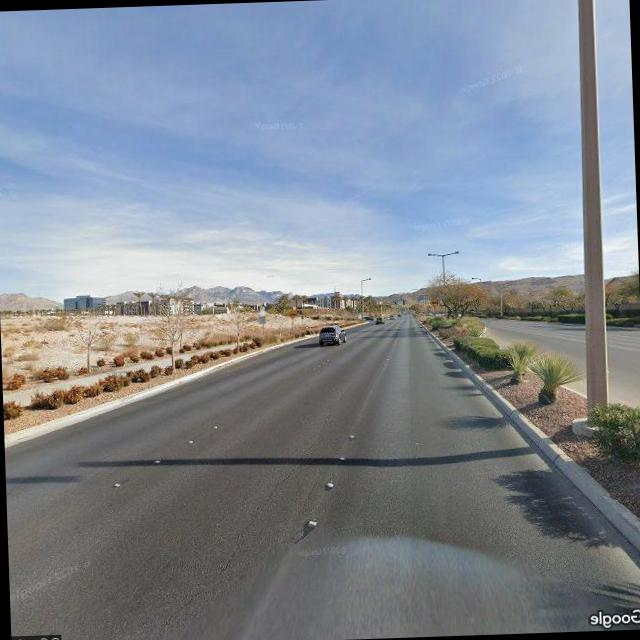pothole: (176, 445, 318, 608)
